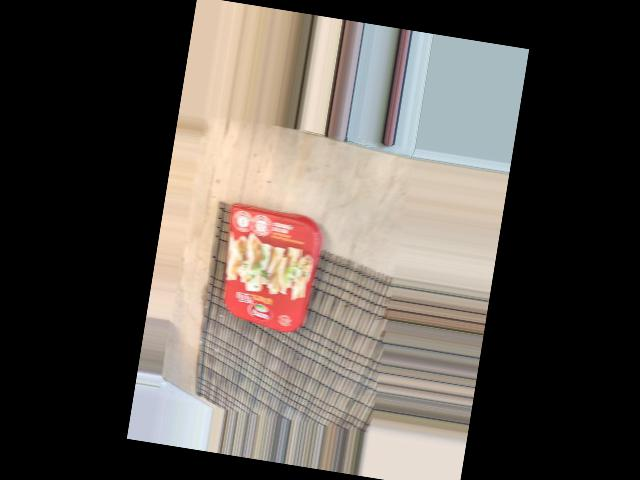cheese: (261, 246, 406, 353)
